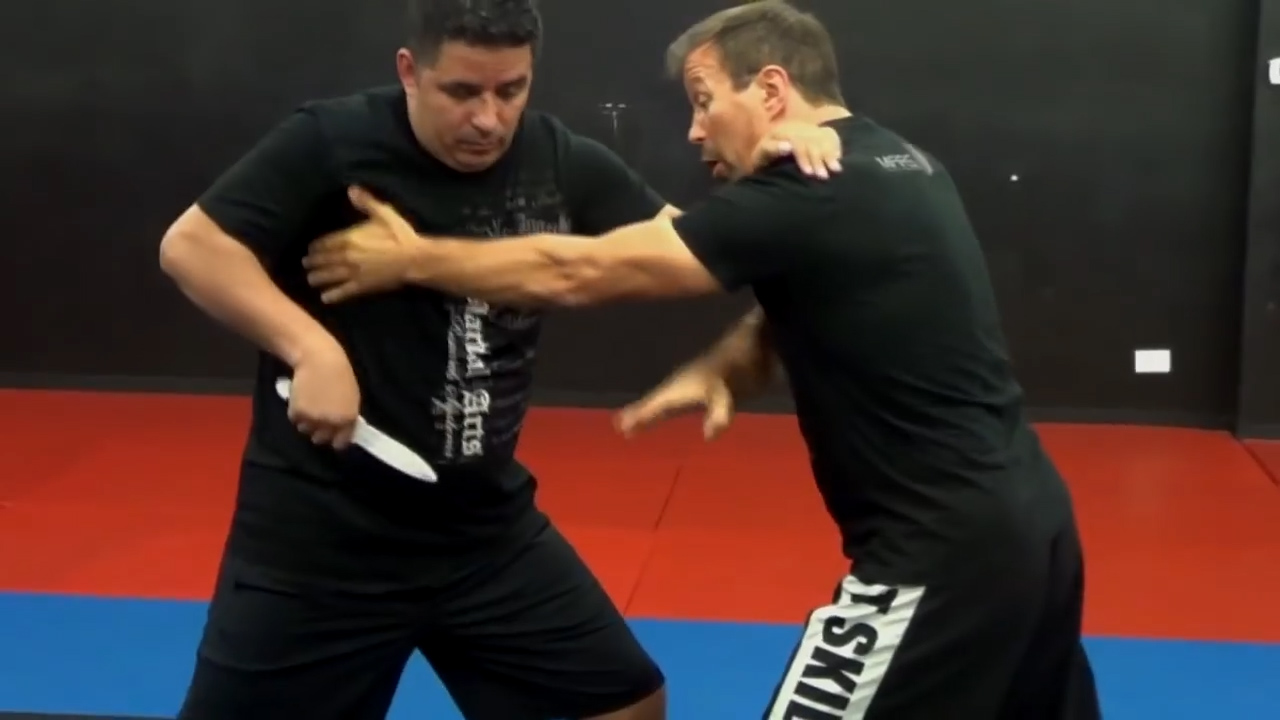knife: (270, 371, 440, 490)
